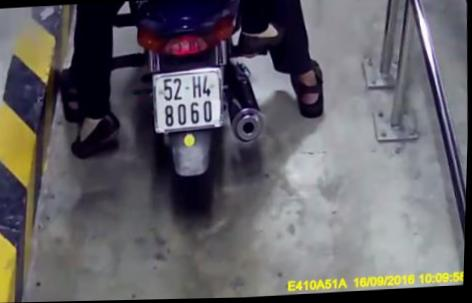LP: (149, 67, 230, 133)
